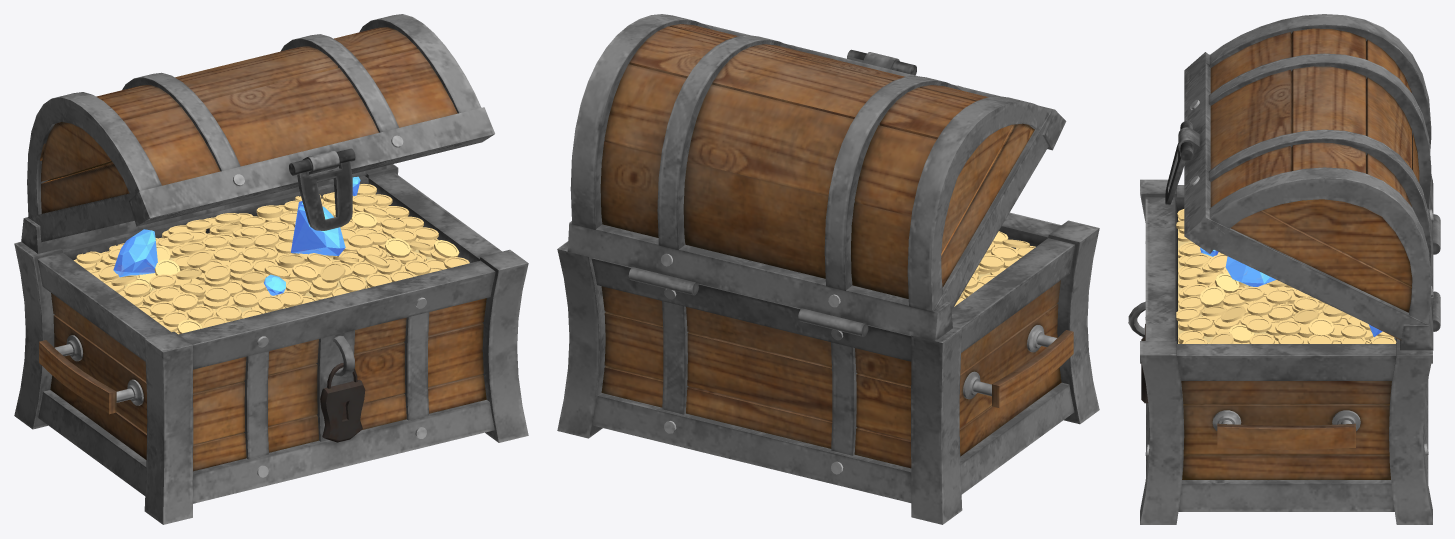
Rendered from treasure_chest.glb.
3 renders of one model, left to right at view 1: azimuth 30°, elevation 25°; view 2: azimuth 150°, elevation 25°; view 3: azimuth 270°, elevation 25°, orthographic. The views are drawn at different scales.
Visible parts, largest first — view 1: Chest, Gold, Diamond1, Diamond; view 2: Chest, Gold; view 3: Chest, Gold, Diamond1.
Part boxes in pixels (x1=…): Chest: x1=14, y1=14, x2=528, y2=524; Gold: x1=73, y1=184, x2=469, y2=334; Diamond1: x1=291, y1=201, x2=345, y2=255; Diamond: x1=113, y1=229, x2=157, y2=277; Chest: x1=557, y1=14, x2=1099, y2=524; Gold: x1=954, y1=231, x2=1035, y2=306; Chest: x1=1128, y1=14, x2=1440, y2=524; Gold: x1=1176, y1=209, x2=1396, y2=343; Diamond1: x1=1225, y1=256, x2=1275, y2=286.
Bounding box in the file's own units: 0.7085 × 0.5822 × 0.4827.
4 materials, 4 textured.
